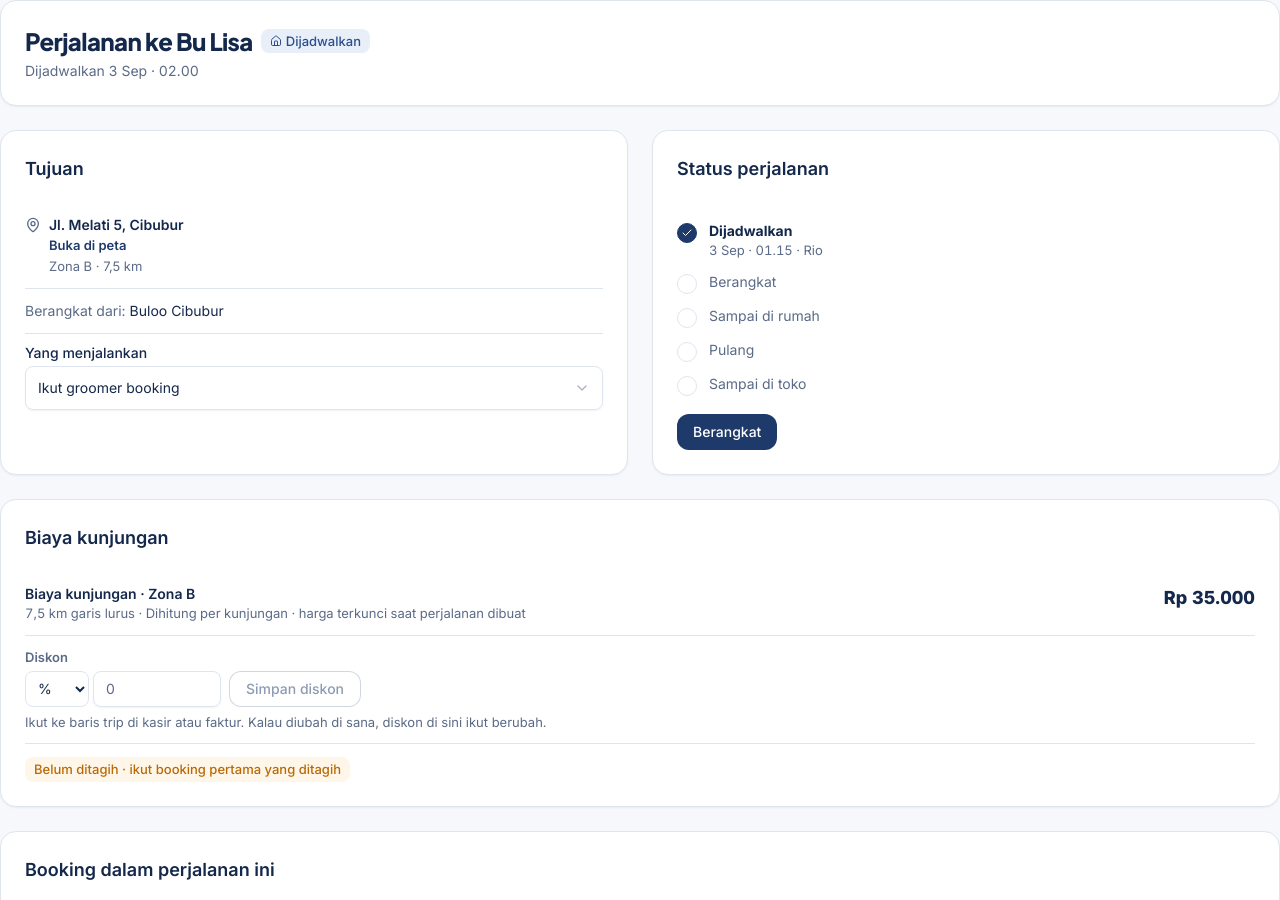
Test: HomeTripDetailScreen › moves nothing when the dialog is dismissed
This screenshot has width=1280, height=900.
Click the button "Berangkat" at {"x": 727, "y": 432}, box [677,414,777,450]
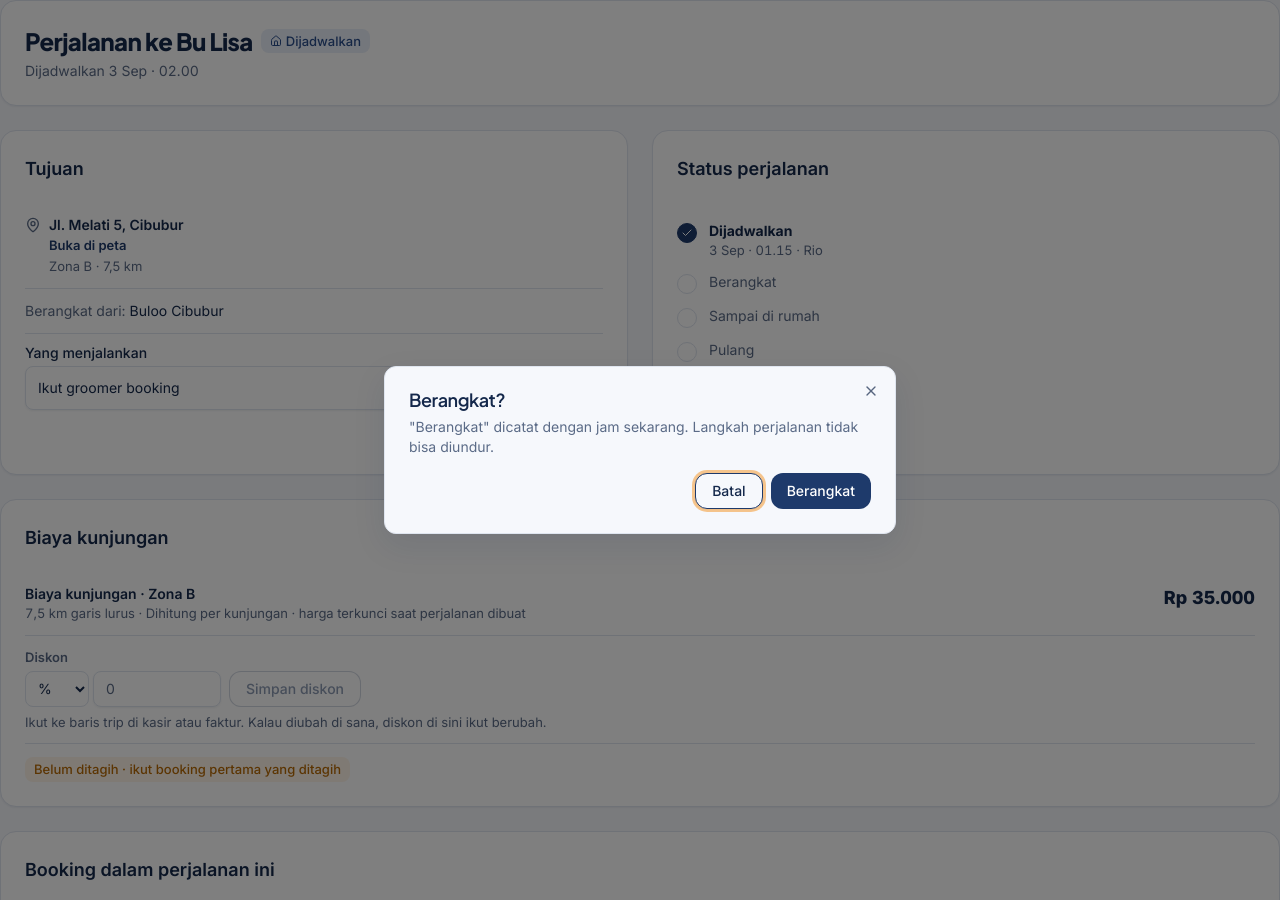
Click the button "Batal" at {"x": 729, "y": 491}, box [695,473,763,509]
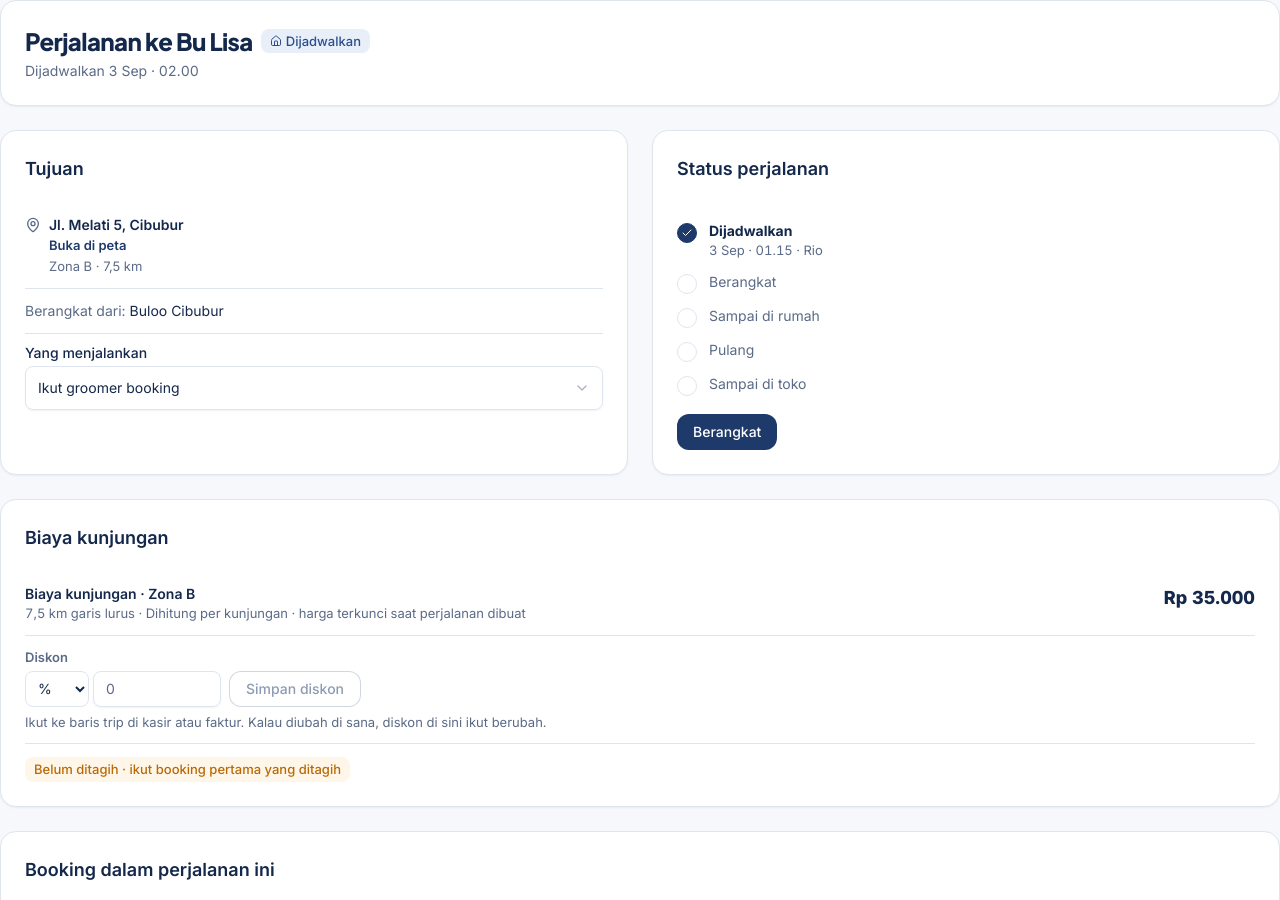
Expected: the dialog is gone
